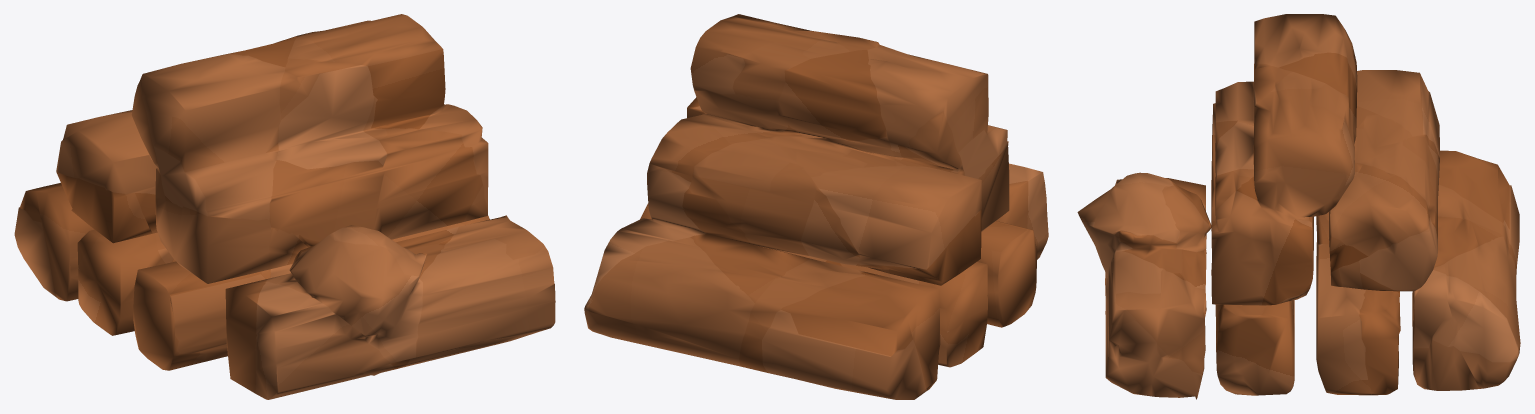
File: gather_wood_pile.glb
3 renders of one model, left to right at view 1: azimuth 30°, elevation 25°; view 2: azimuth 150°, elevation 25°; view 3: azimuth 270°, elevation 25°, orthographic. The views are drawn at different scales.
Parts seen in each view (by area): view 1: tripo_node_0c586e3e-04ca-49df-a32e-4d5ad9aa148d; view 2: tripo_node_0c586e3e-04ca-49df-a32e-4d5ad9aa148d; view 3: tripo_node_0c586e3e-04ca-49df-a32e-4d5ad9aa148d.
Part boxes in pixels (x1,y1,x2,y2): tripo_node_0c586e3e-04ca-49df-a32e-4d5ad9aa148d: (14,14,555,399); tripo_node_0c586e3e-04ca-49df-a32e-4d5ad9aa148d: (584,14,1048,399); tripo_node_0c586e3e-04ca-49df-a32e-4d5ad9aa148d: (1077,14,1520,399).
Size of the model in its own units: 0.8264 by 0.6287 by 1.
1 material, 1 textured.
